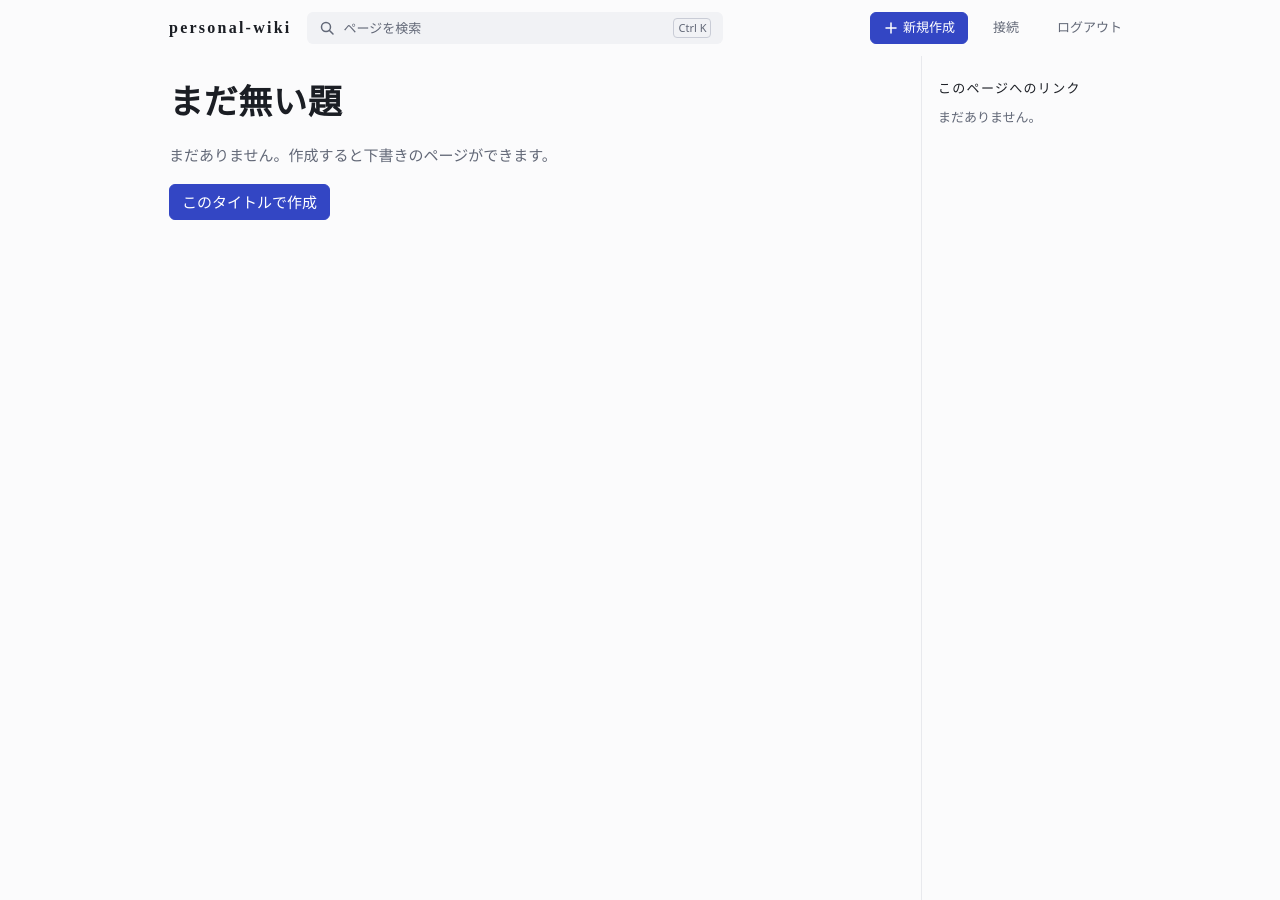
Test: App の owner の画面 › 新規作成の画面 › title が重複して作れなかったら、打った内容を残して直し方と既存のページへのリンクを出す
The width and height of the screenshot is (1280, 900).
Check: the element that starts with "まだ無い題" is shown, box [169,84,342,121]
What coordinates should you click on to do the following:
click the button "このタイトルで作成"
I would click on:
 (250, 202)
Its box is [169,184,330,220].
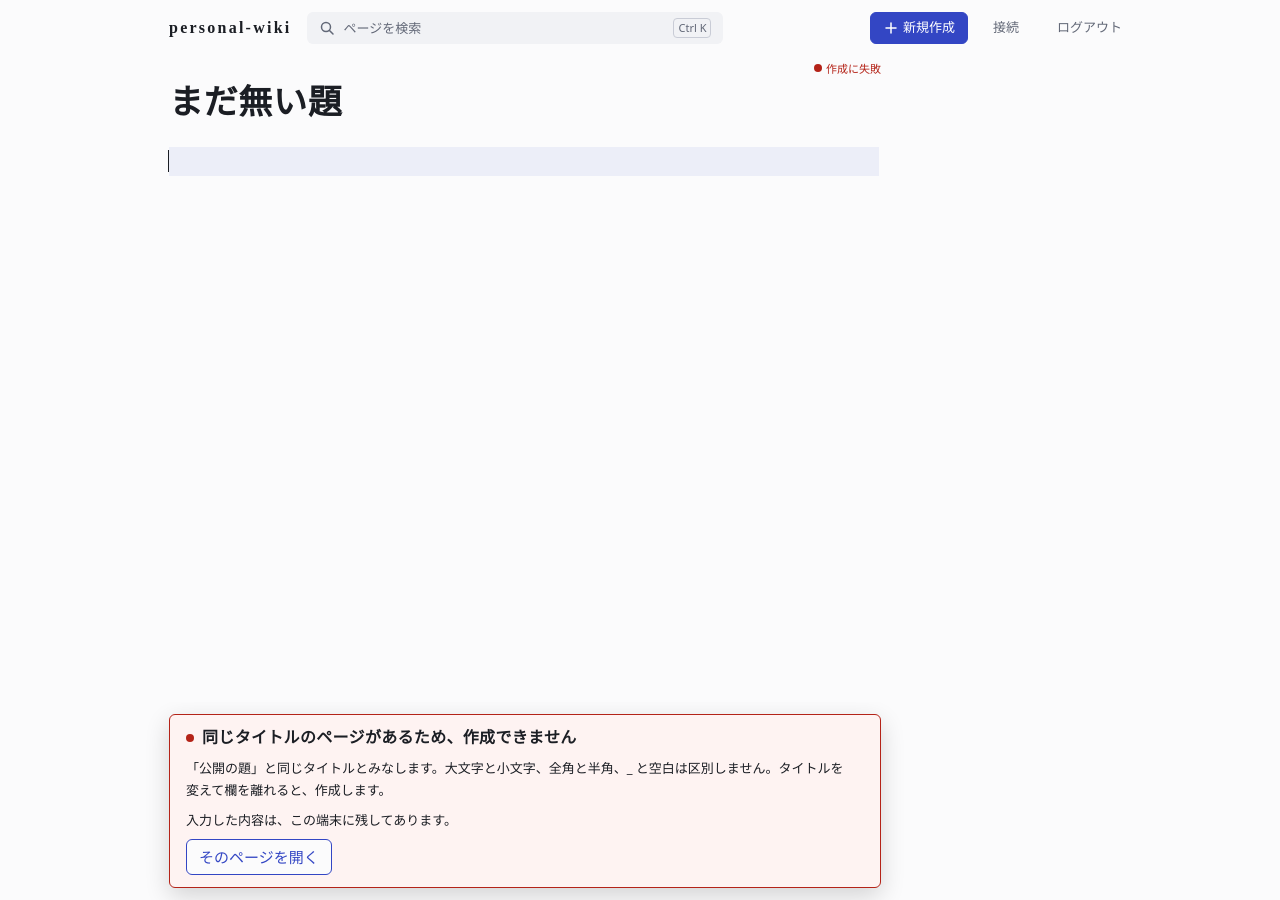
Check: the text box labelled "まだ無い題" is shown, box [169,84,342,121]
Check: the text "タイトルを変えて欄を離れると、作成します。" is shown, box [186,759,844,799]
